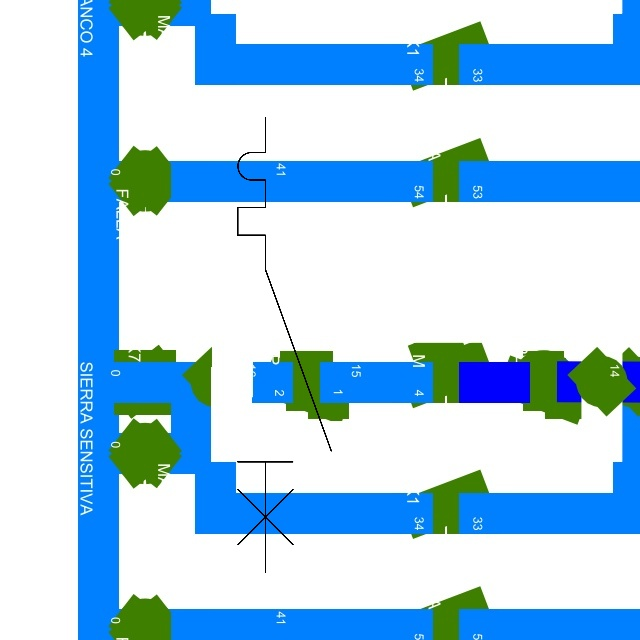interruptor_termomagnetico: (226, 106, 343, 584)
